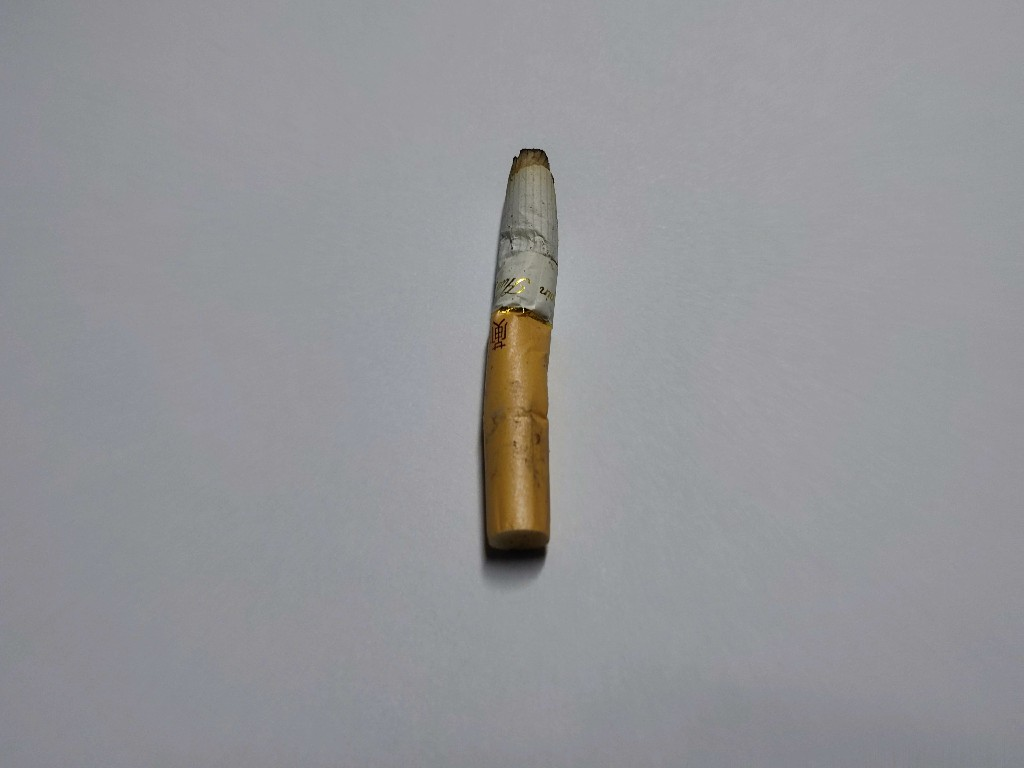cigarette: (474, 142, 566, 560)
